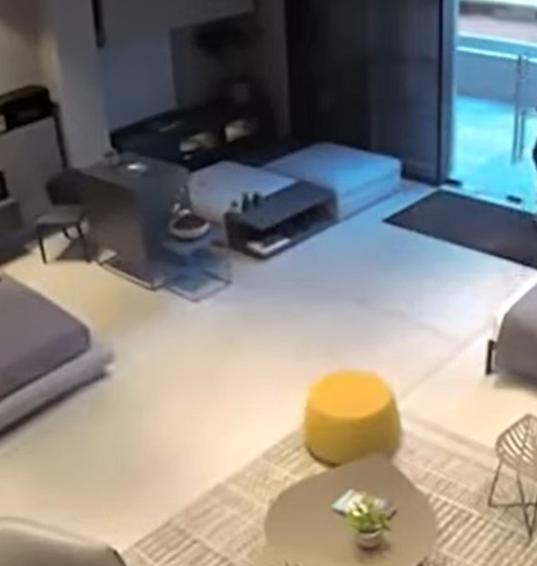NoHuman: (0, 4, 537, 566)
